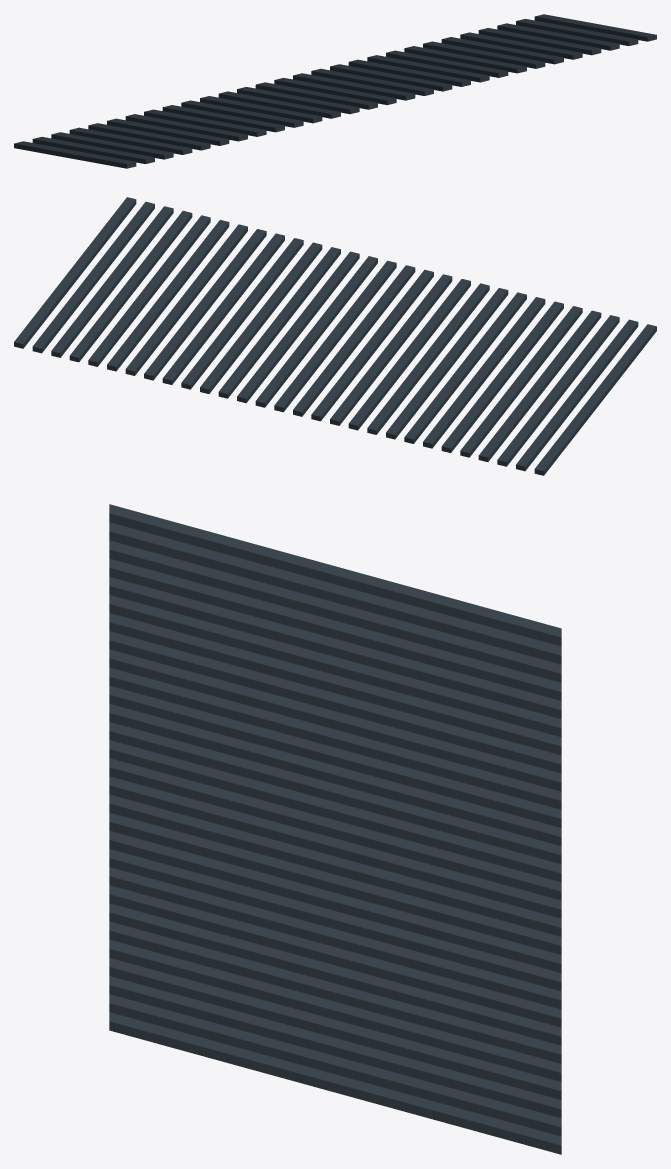
Rendered from Floor1_Ceiling1.fbx.
3 views of the same model, one above another, from view 1: azimuth 30°, elevation 25°; view 2: azimuth 150°, elevation 25°; view 3: azimuth 270°, elevation 25° (orthographic). The views are drawn at different scales.
Parts seen in each view (by area): view 1: B1_ground Mesh (1); view 2: B1_ground Mesh (1); view 3: B1_ground Mesh (1).
Boxes of the visible parts, box(x1,y1,x2,y2) form: B1_ground Mesh (1): box(14, 14, 656, 168); B1_ground Mesh (1): box(14, 197, 656, 475); B1_ground Mesh (1): box(109, 504, 561, 1154).
Size of the model in its own units: 60.2 by 7.25 by 22.25.
